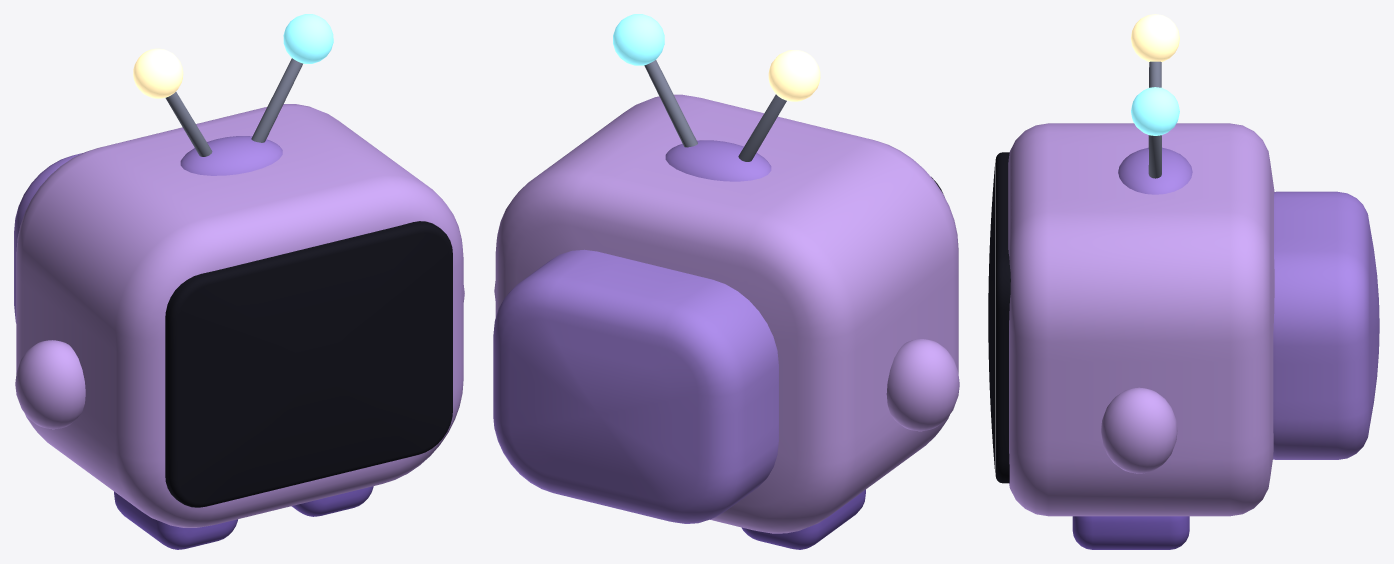
The model's file is tilly.glb.
3 renders of one model, left to right at view 1: azimuth 30°, elevation 25°; view 2: azimuth 150°, elevation 25°; view 3: azimuth 270°, elevation 25°, orthographic. The views are drawn at different scales.
Parts seen in each view (by area): view 1: Shell, Screen, Bezel, HandLMesh, AntennaBase, FootL, TipL, TipR, RodR, FootR, Tube, RodL; view 2: Shell, Tube, HandLMesh, AntennaBase, TipL, TipR, FootL, RodR, RodL; view 3: Shell, Tube, HandRMesh, Bezel, FootR, AntennaBase, TipR, TipL, Screen, RodR.
Part boxes in pixels (x1=…): Shell: x1=16, y1=104, x2=463, y2=527; Screen: x1=178, y1=233, x2=449, y2=502; Bezel: x1=165, y1=221, x2=452, y2=507; HandLMesh: x1=15, y1=340, x2=85, y2=429; AntennaBase: x1=180, y1=136, x2=282, y2=175; FootL: x1=114, y1=491, x2=237, y2=549; TipL: x1=133, y1=48, x2=183, y2=98; TipR: x1=283, y1=14, x2=333, y2=63; RodR: x1=251, y1=58, x2=302, y2=142; FootR: x1=291, y1=486, x2=373, y2=516; Tube: x1=14, y1=153, x2=82, y2=323; RodL: x1=165, y1=92, x2=212, y2=156; Shell: x1=495, y1=94, x2=958, y2=533; Tube: x1=493, y1=249, x2=778, y2=523; HandLMesh: x1=886, y1=339, x2=959, y2=431; AntennaBase: x1=665, y1=140, x2=771, y2=181; TipL: x1=768, y1=50, x2=820, y2=101; TipR: x1=613, y1=14, x2=664, y2=65; FootL: x1=741, y1=489, x2=865, y2=549; RodR: x1=644, y1=60, x2=697, y2=147; RodL: x1=738, y1=94, x2=786, y2=161; Shell: x1=1008, y1=123, x2=1274, y2=516; Tube: x1=1273, y1=191, x2=1379, y2=459; HandRMesh: x1=1101, y1=387, x2=1177, y2=473; Bezel: x1=995, y1=152, x2=1010, y2=483; FootR: x1=1072, y1=516, x2=1189, y2=549; AntennaBase: x1=1118, y1=147, x2=1192, y2=194; TipR: x1=1131, y1=87, x2=1179, y2=135; TipL: x1=1131, y1=14, x2=1179, y2=61; Screen: x1=988, y1=163, x2=995, y2=472; RodR: x1=1148, y1=135, x2=1161, y2=178.
Size of the model in its own units: 2.43 by 2.49 by 1.94.
